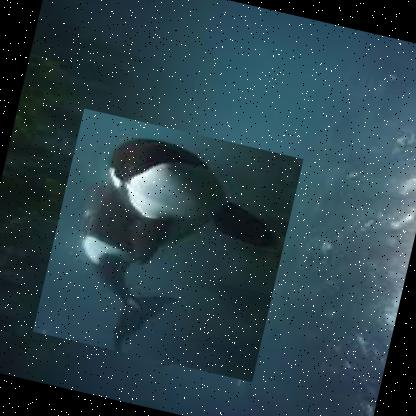killer_whale: (32, 107, 304, 382)
